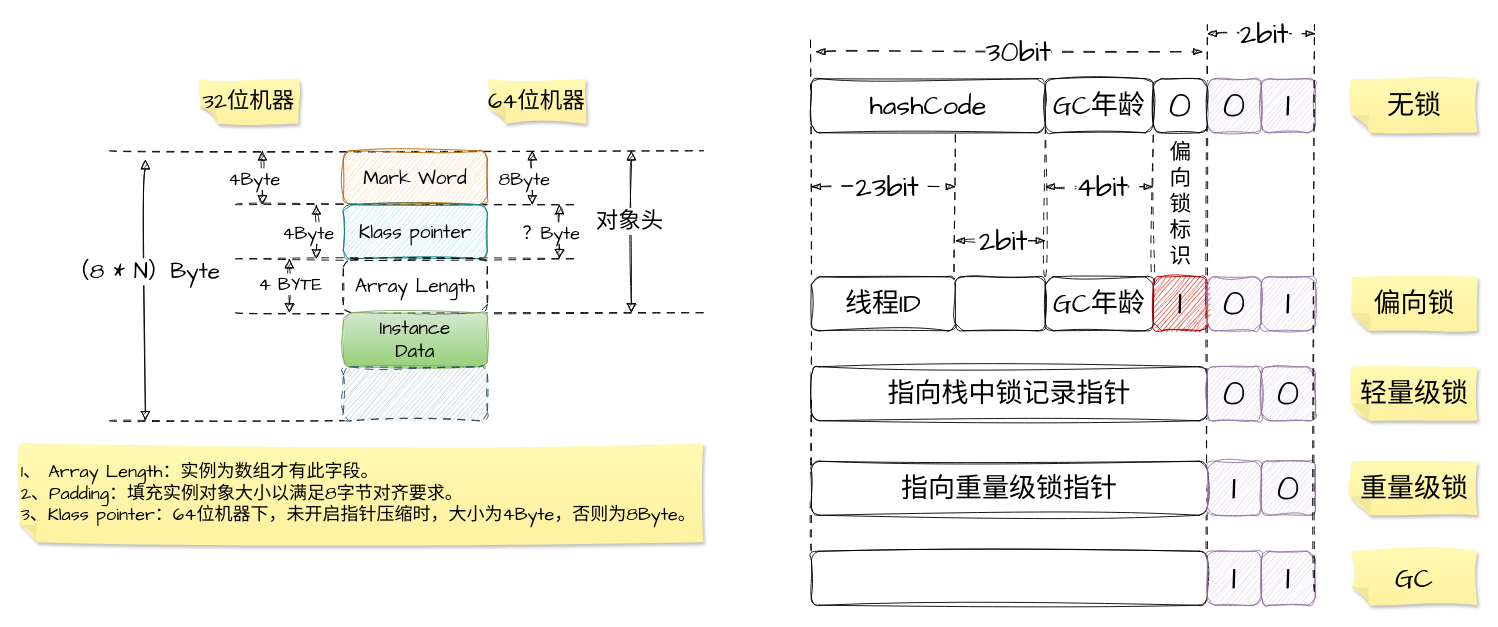
Image size: 1498x627. Some labels were removed from this diagram. The centre of each missing label's shape, as x and y in pixels:
"EPOCH" goes at (999,303).
"Padding" goes at (414,393).
